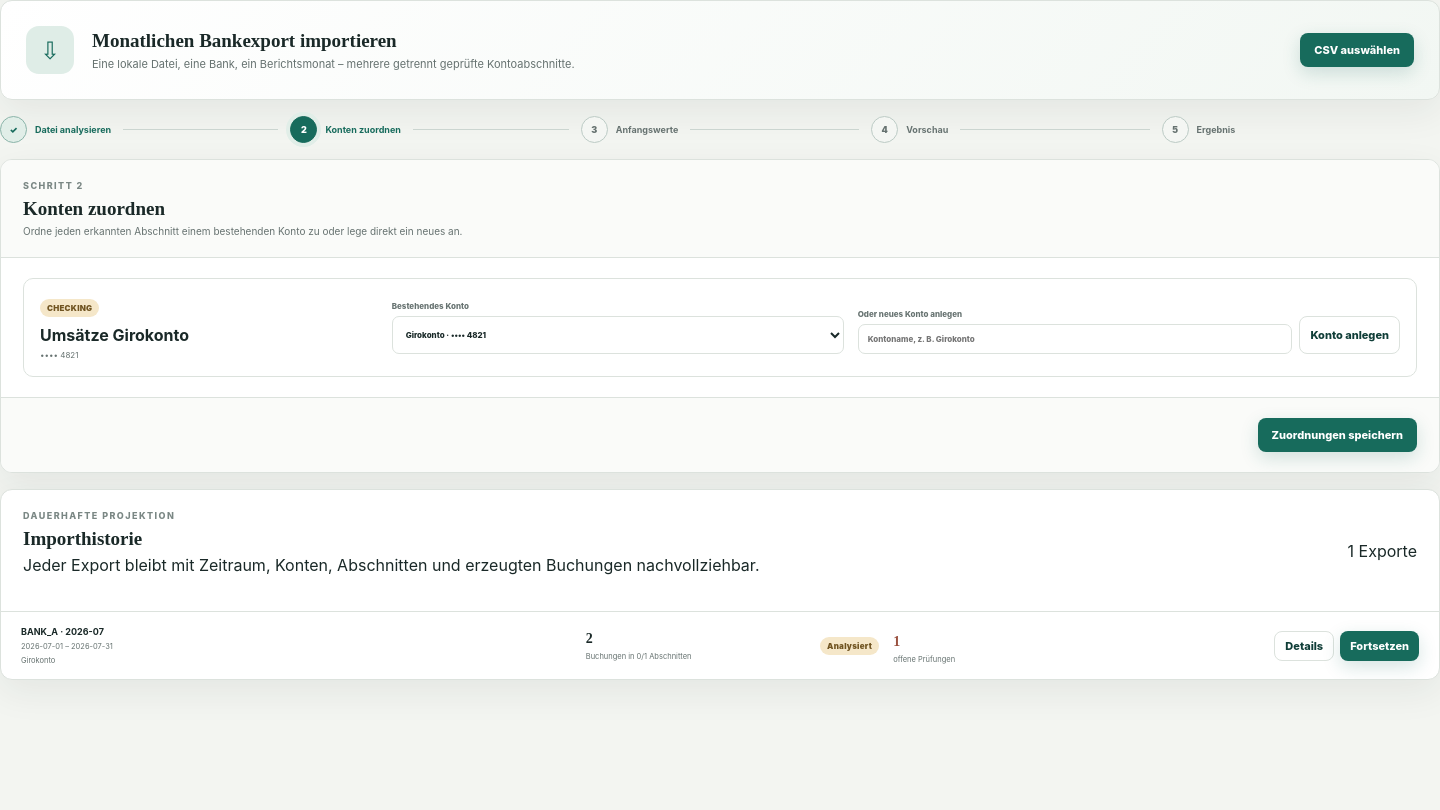
it: Importassistent 1.2.0 › zeigt fehlende Kontenzuordnungen direkt am Feld statt den Klick abzubrechen
Select "Konto auswählen …" in the dropdown at [618, 335], box [392,316,844,354]
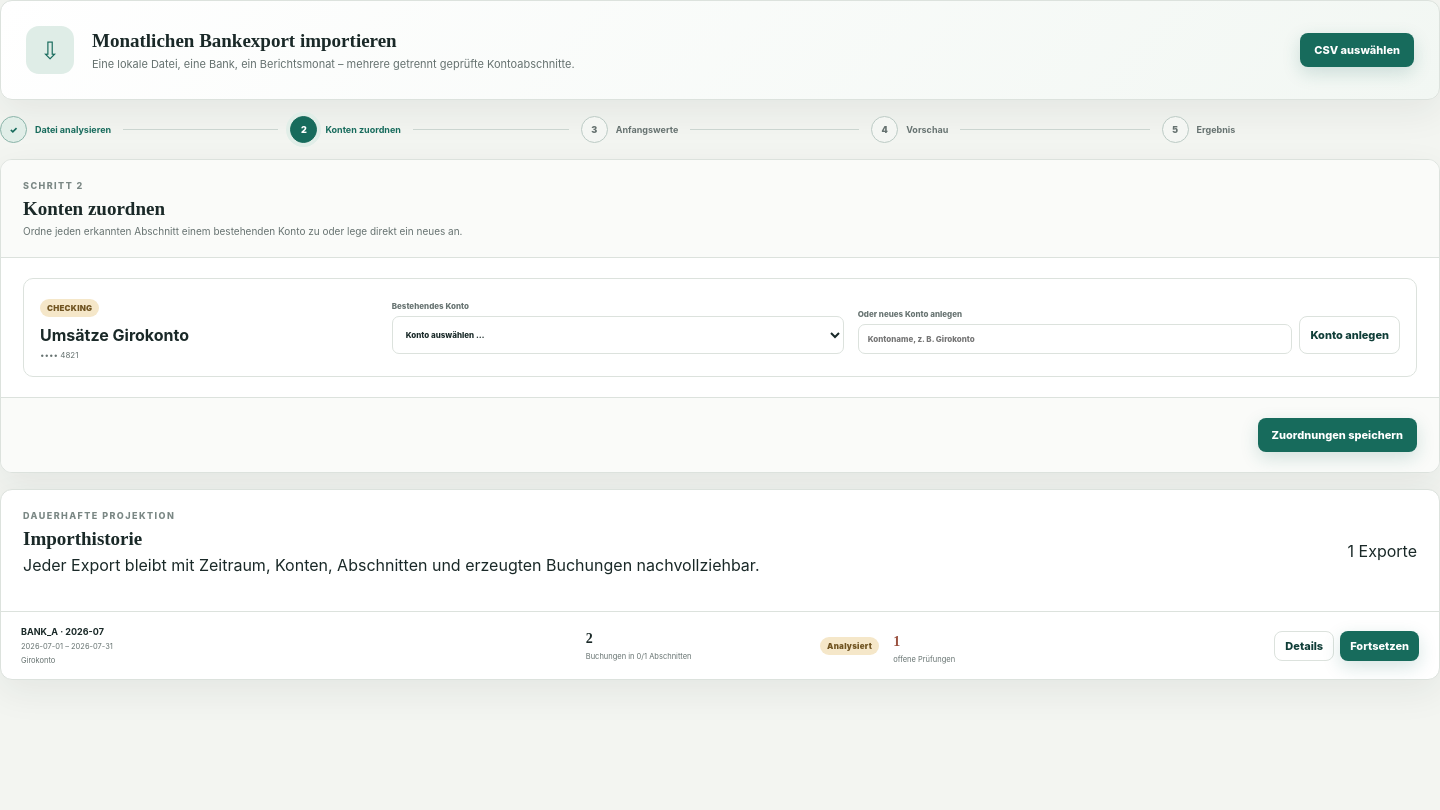
Click the button "Zuordnungen speichern".
click(1337, 435)  # box [1258,418,1417,452]
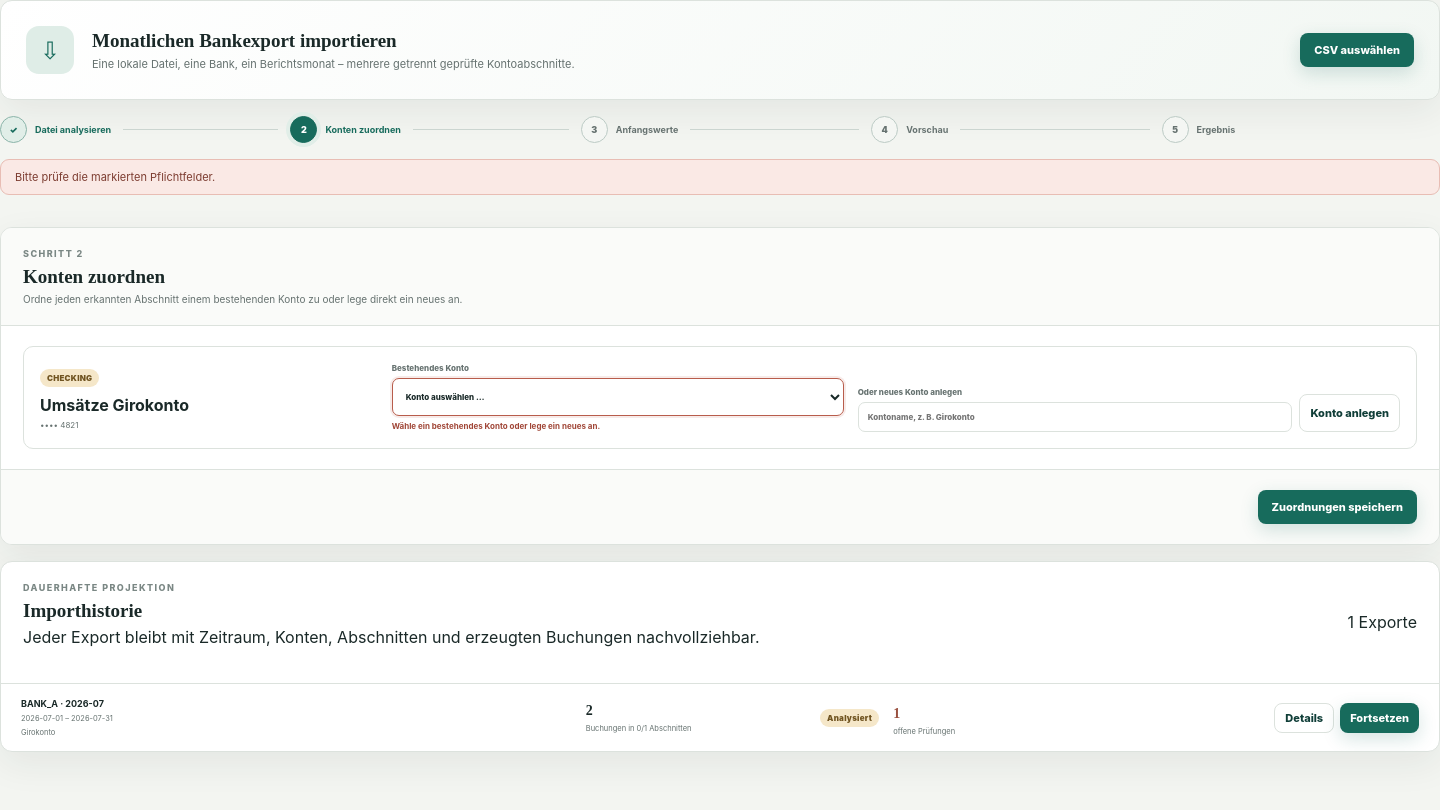
Check: the text "Wähle ein bestehendes Konto oder lege ein neues an." is shown, box [392,421,600,431]
